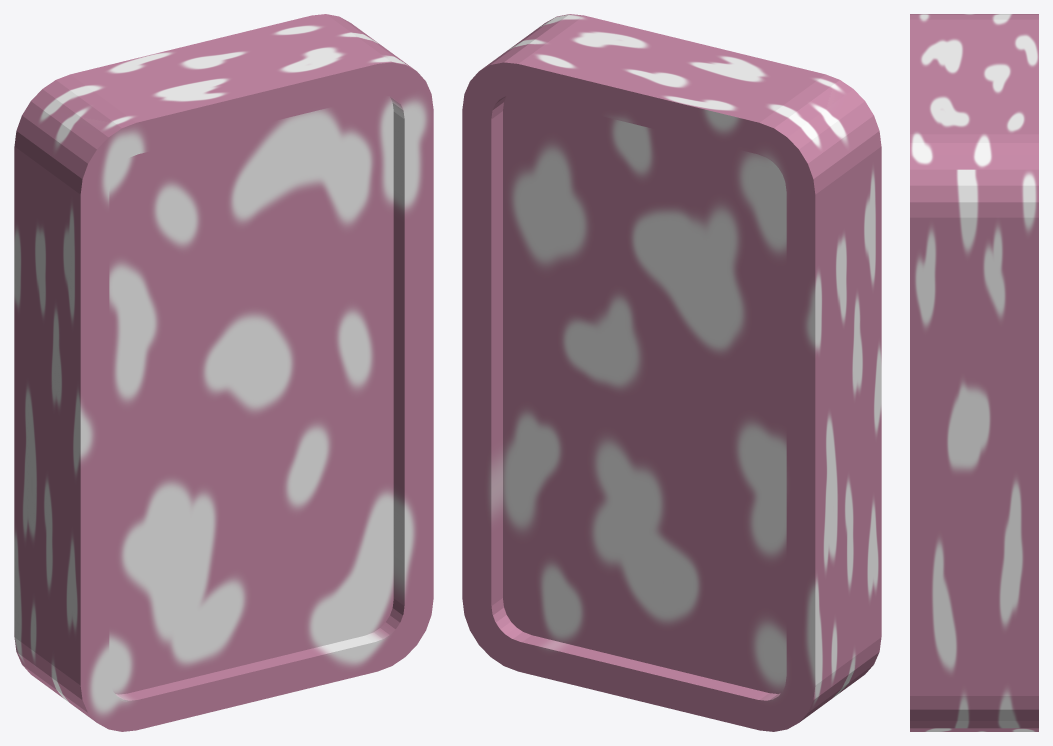
Rendered from domino.glb.
3 views of the same model, side by side, from view 1: azimuth 30°, elevation 25°; view 2: azimuth 150°, elevation 25°; view 3: azimuth 270°, elevation 25° (orthographic). The views are drawn at different scales.
Parts seen in each view (by area): view 1: Cube; view 2: Cube; view 3: Cube.
Boxes of the visible parts, bbox=[...] form: Cube: bbox=[14, 14, 433, 731]; Cube: bbox=[462, 14, 881, 731]; Cube: bbox=[910, 14, 1038, 731].
Size of the model in its own units: 0.605 by 0.9956 by 0.1965.
Materials: 1 (1 with a texture image).
